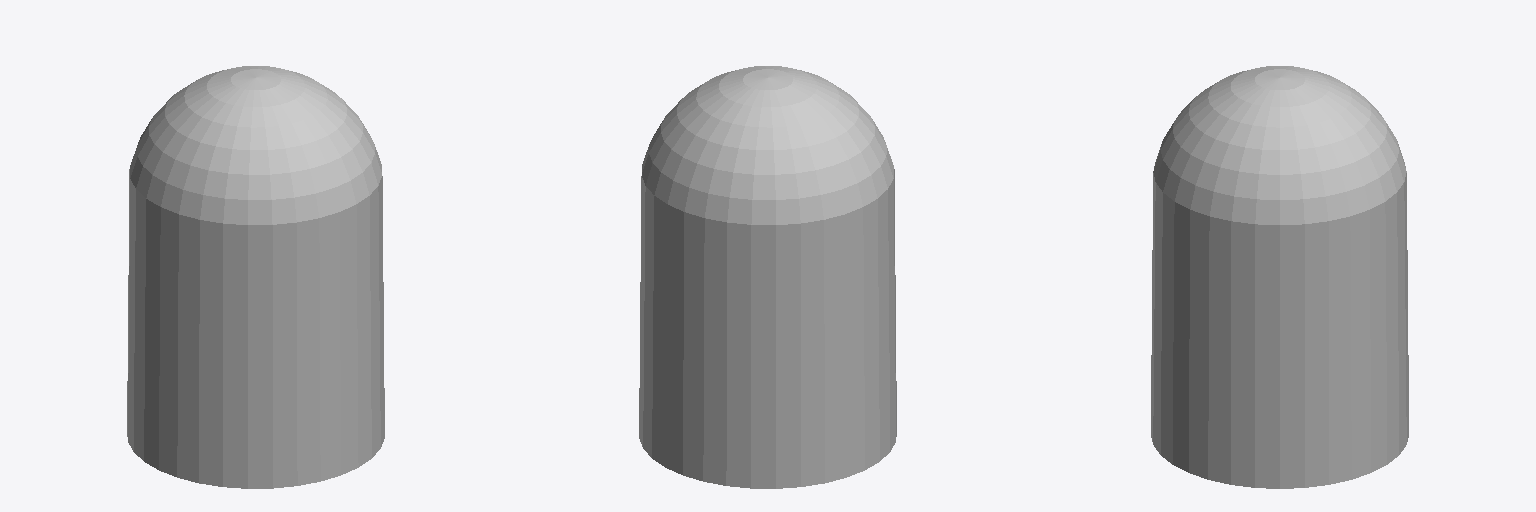
File: bullet.obj
3 renders of one model, left to right at view 1: azimuth 30°, elevation 25°; view 2: azimuth 150°, elevation 25°; view 3: azimuth 270°, elevation 25°, orthographic.
Visible parts, largest first — view 1: 球; view 2: 球; view 3: 球.
Part boxes in pixels (left/top/right/bottom): 球: left=127, top=66, right=384, bottom=488; 球: left=639, top=66, right=896, bottom=488; 球: left=1151, top=66, right=1408, bottom=488.
Bounding box in the file's own units: 0.1645 × 0.2506 × 0.1645.